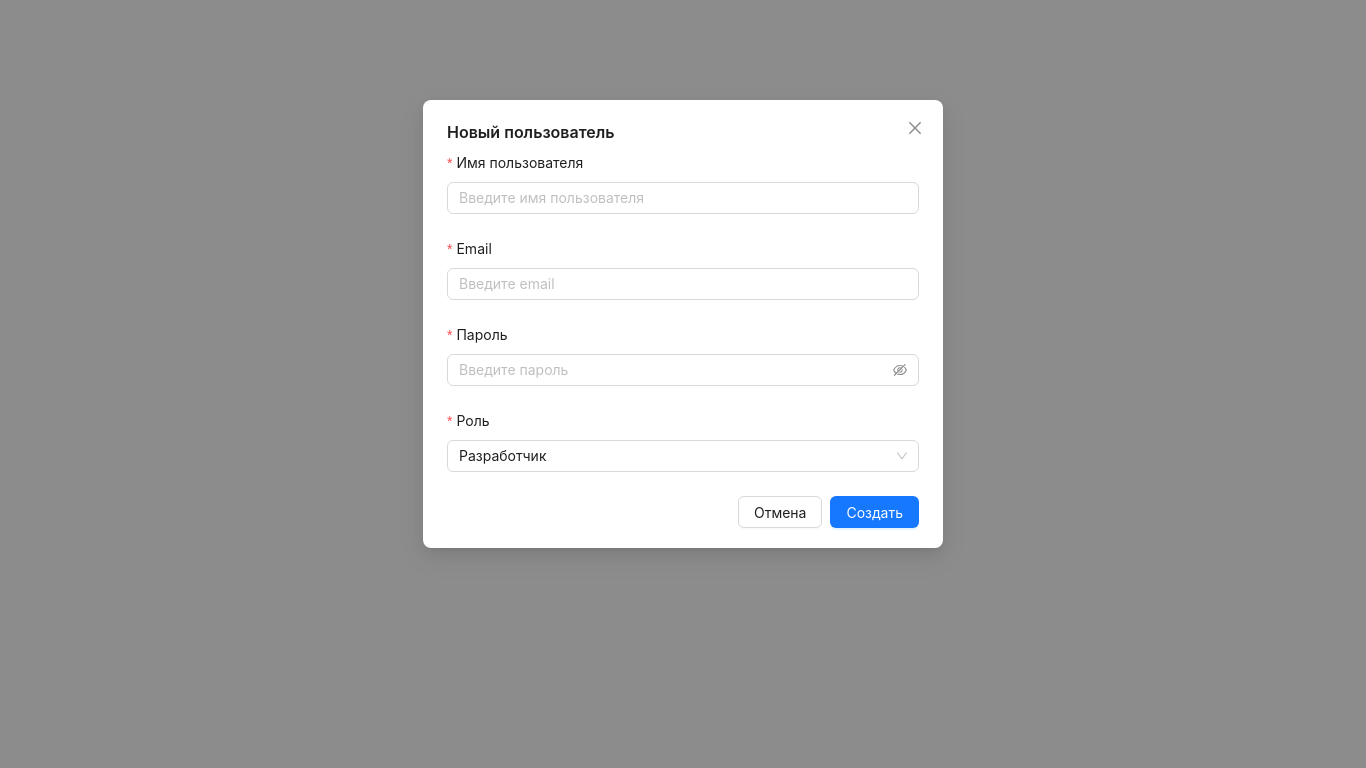
Test: UserFormModal › режим создания › валидирует обязательные поля
# Кликаем Создать без заполнения полей
Click the button "Создать". click: (875,512)
box: top-left (830, 496), bottom-right (919, 528)
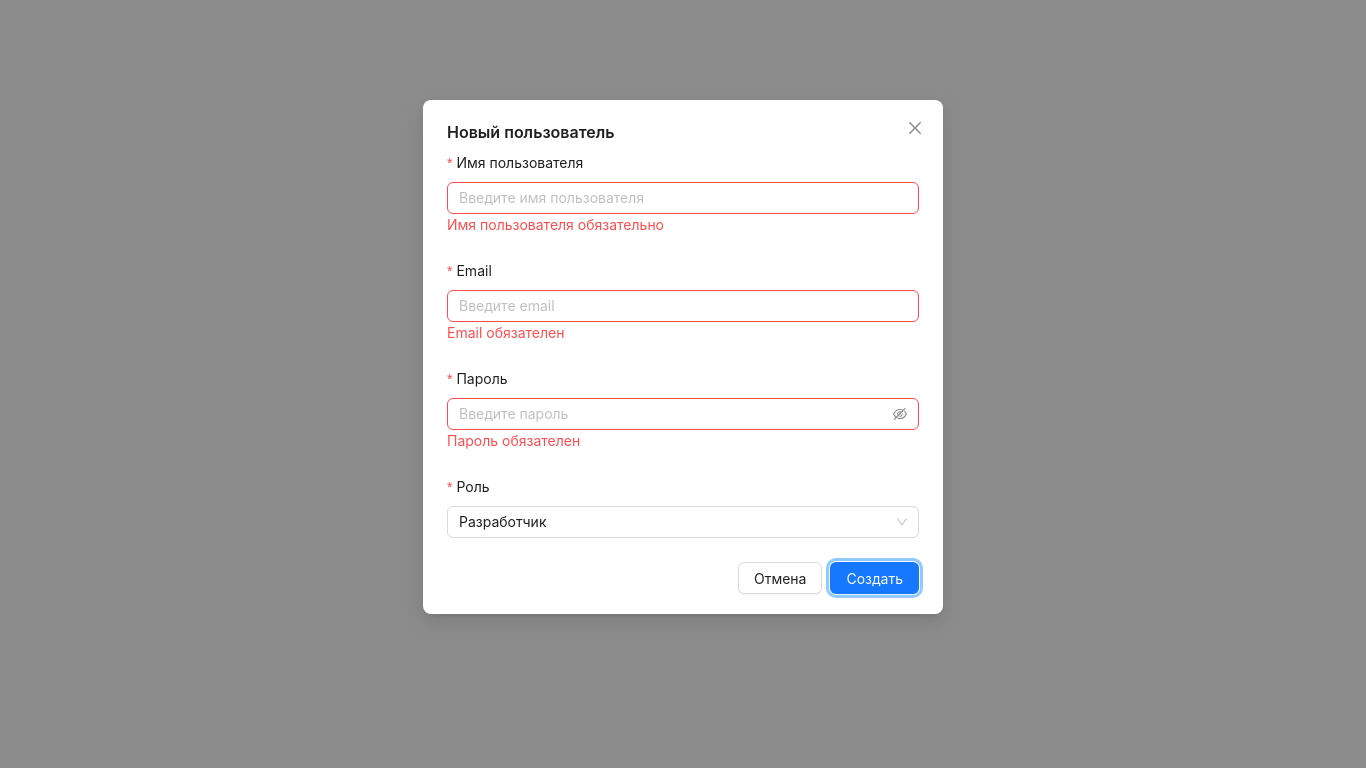
Result: the text "Имя пользователя обязательно" is shown at top-left (447, 216), bottom-right (664, 233)
